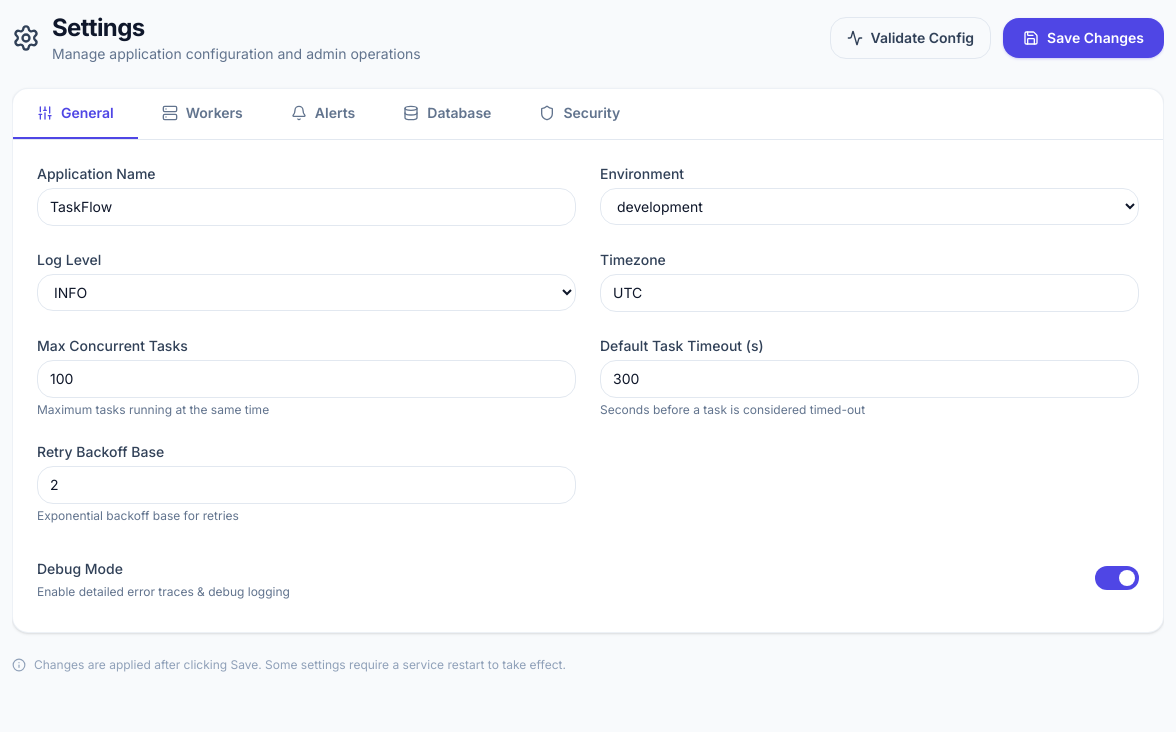
Test: SettingsPage › switches to Workers tab on click
Click the button "Workers".
click(202, 114)  # box top-left (138, 89), bottom-right (267, 139)
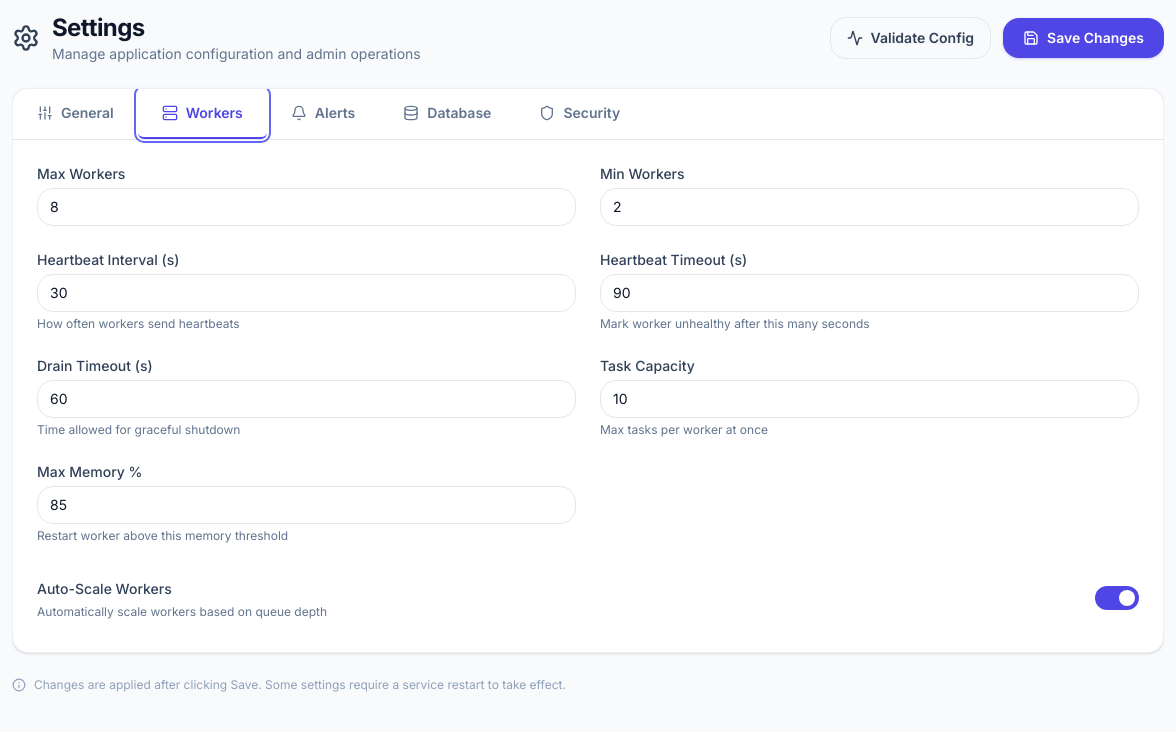
Expected: the text "Max Workers" is shown, top-left (37, 165), bottom-right (125, 182)
